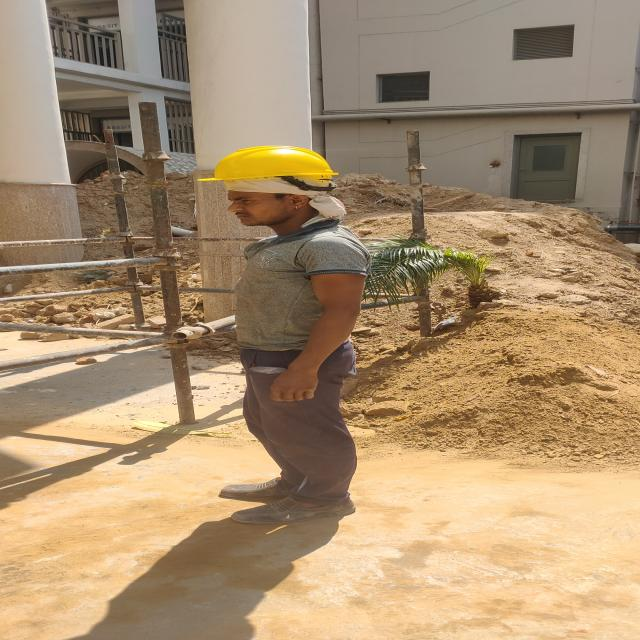no jacket: (197, 145, 371, 522)
